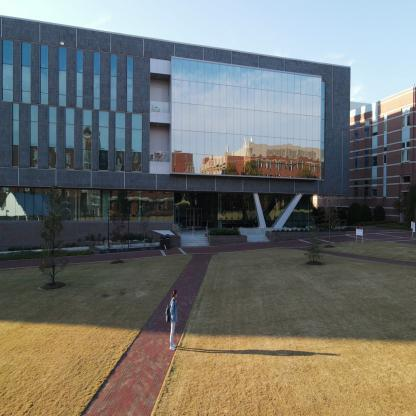EB-1: (356, 85, 415, 238)
Fitts- Woolard: (0, 9, 352, 278)
